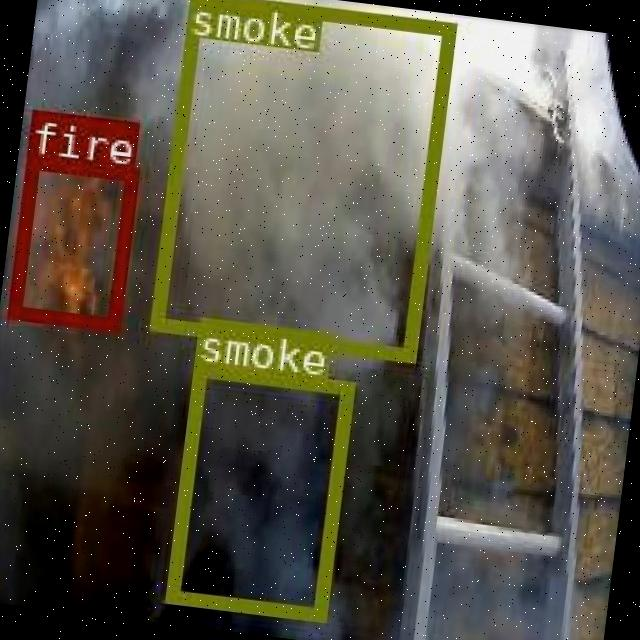fire: (6, 153, 135, 328)
smoke: (148, 0, 453, 358), (164, 362, 350, 618)
